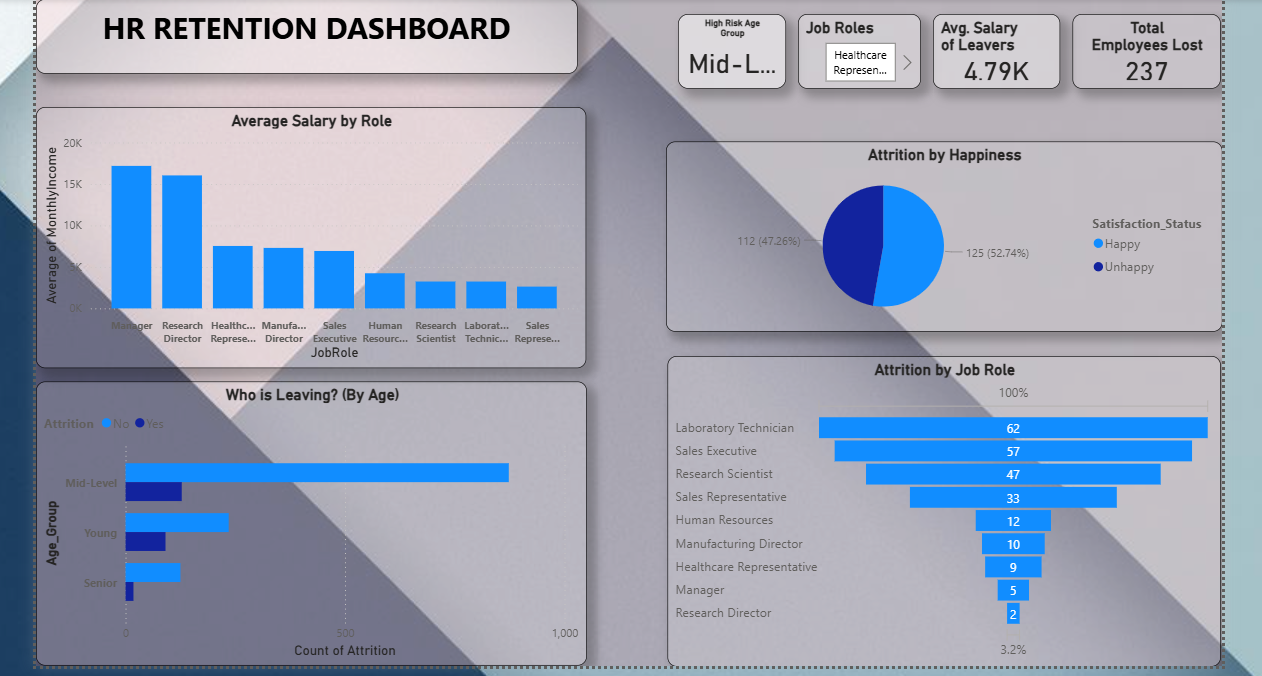

This screenshot's page, from the dashboard's own definition file:
{"tool":"powerbi","page":{"name":"Page 1","canvas":[1280,720],"ordinal":0},"visuals":[{"type":"textbox","box":[0,0,584.5,81],"z":0},{"type":"pieChart","title":"Attrition by Happiness","fields":{"Category":["dashboard_data.Satisfaction_Status"],"Y":["CountNonNull(dashboard_data.Attrition)"]},"box":[680.1,153.8,600.7,205.6],"z":1000},{"type":"card","title":"Total Employees Lost","fields":{"Values":["CountNonNull(dashboard_data.Attrition)"]},"box":[1118.9,16.2,160.3,81],"z":2000},{"type":"clusteredBarChart","title":"Who is Leaving? (By Age)","fields":{"Category":["dashboard_data.Age_Group"],"Y":["CountNonNull(dashboard_data.Attrition)"],"Series":["dashboard_data.Attrition"]},"box":[0,413.6,594.9,307],"z":3000},{"type":"funnel","title":"Attrition by Job Role","fields":{"Category":["dashboard_data.JobRole"],"Y":["CountNonNull(dashboard_data.Attrition)"]},"box":[681.7,385.4,597.5,335.2],"z":4000},{"type":"clusteredColumnChart","title":"Average Salary by Role","fields":{"Category":["dashboard_data.JobRole"],"Y":["Avg(dashboard_data.MonthlyIncome)"]},"box":[0,116.6,594.3,281.7],"z":5000},{"type":"slicer","title":"Job Roles","fields":{"Values":["dashboard_data.JobRole"]},"box":[822.6,16.2,132.8,81],"z":6000},{"type":"card","title":"High Risk Age Group","fields":{"Values":["Min(dashboard_data.Age_Group)"]},"box":[693,16.2,116.6,81],"z":7000},{"type":"card","title":"Avg. Salary of Leavers","fields":{"Values":["Avg(dashboard_data.MonthlyIncome)"]},"box":[968.3,16.2,137.6,81],"z":7001}]}

Visuals, with their boxes in screenshot pixels (x1, y1, x2, y2):
textbox: box=[33, 0, 575, 72]
"Attrition by Happiness" pieChart: box=[664, 139, 1221, 330]
"Total Employees Lost" card: box=[1070, 12, 1219, 87]
"Who is Leaving? (By Age)" clusteredBarChart: box=[33, 380, 585, 665]
"Attrition by Job Role" funnel: box=[665, 354, 1219, 665]
"Average Salary by Role" clusteredColumnChart: box=[33, 105, 584, 366]
"Job Roles" slicer: box=[796, 12, 919, 87]
"High Risk Age Group" card: box=[675, 12, 784, 87]
"Avg. Salary of Leavers" card: box=[931, 12, 1058, 87]
